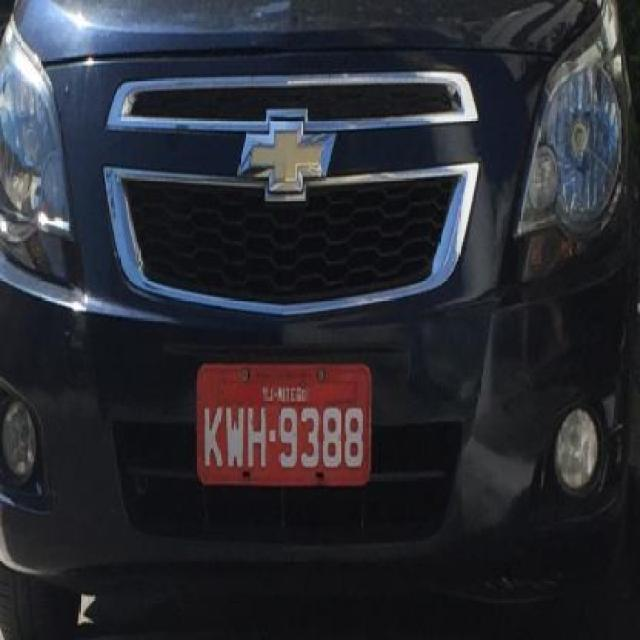old_plate: (189, 355, 381, 497)
